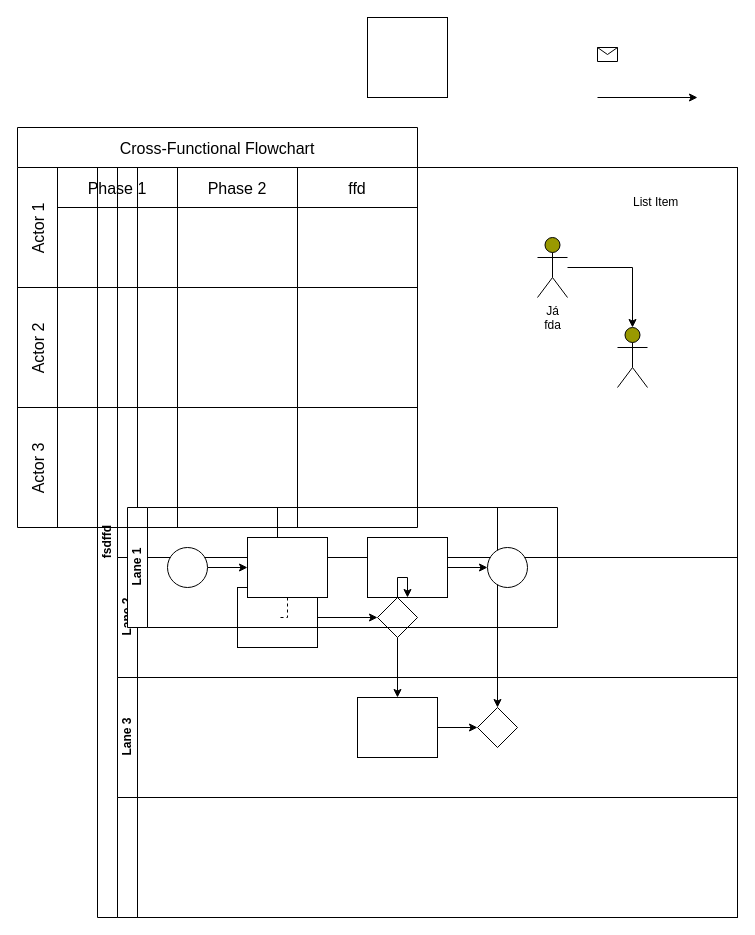
This 755x935 diagram has some shape labels left out. The centre of each missing label's shape, as x and y in pixels:
fdsds fds: (x=407, y=57)
ffdffdasfd: (x=632, y=357)
